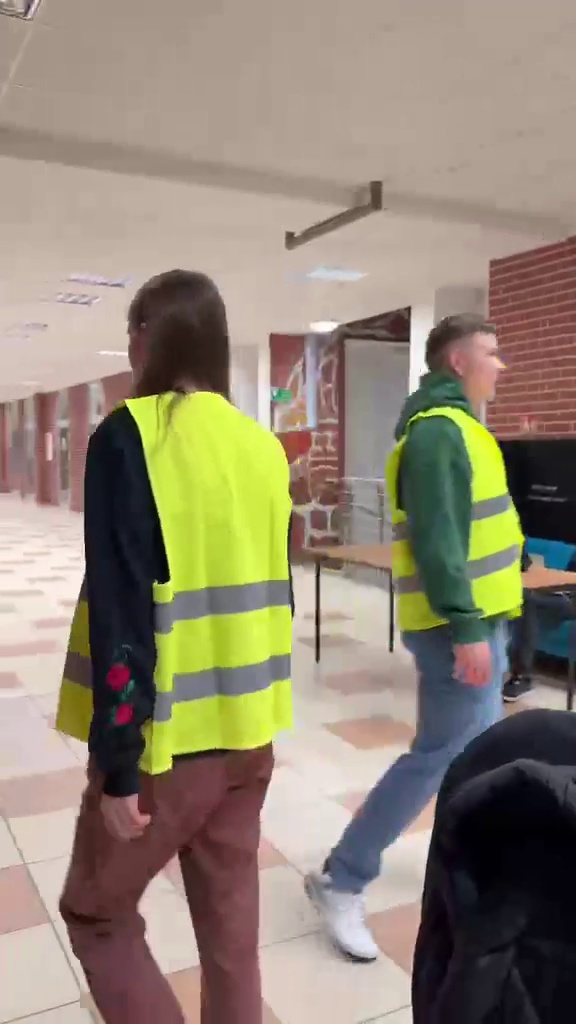vest: (60, 261, 275, 1000), (347, 313, 534, 964)
